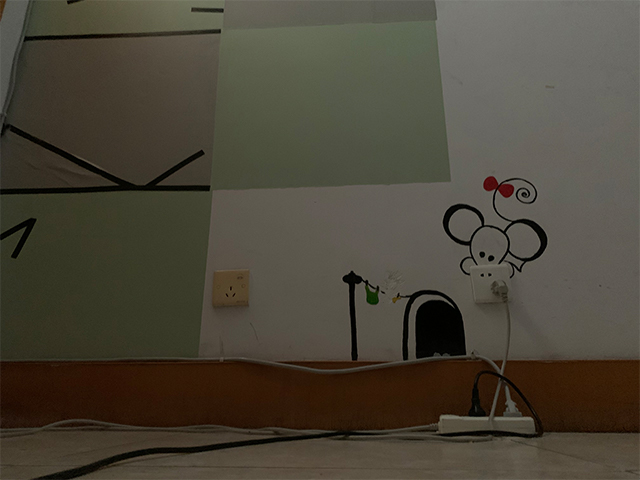wire: (1, 277, 545, 479)
